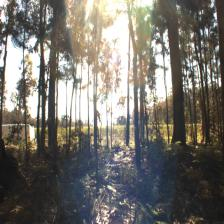trunktrack_idkeyframe: (168, 30, 186, 145), (47, 54, 58, 149), (133, 46, 141, 164), (37, 62, 46, 151), (93, 66, 99, 163), (125, 48, 130, 146)
